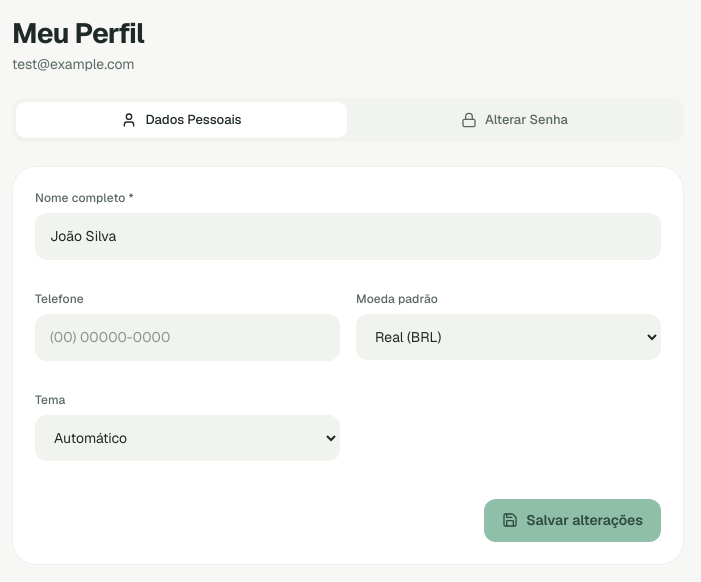
ProfileClient › switches to password tab on click
The width and height of the screenshot is (701, 582).
Click the button "Alterar Senha": (514, 120) [349,102,680,138]
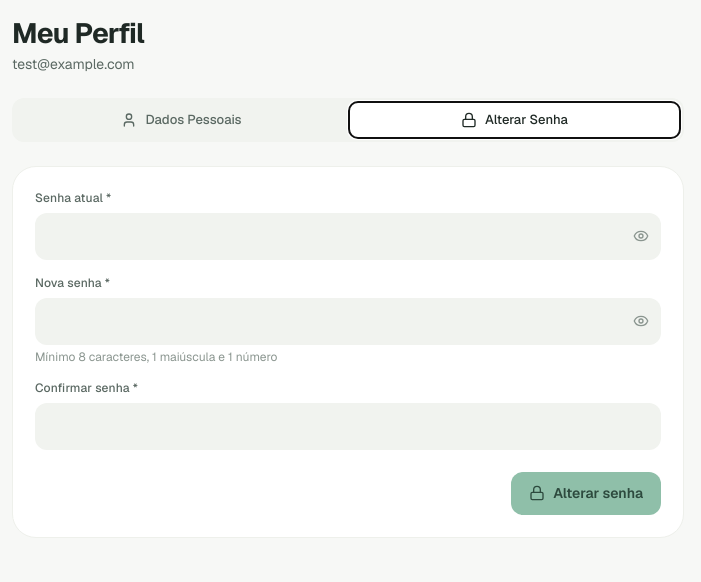
Expected: the text "Senha atual *" is shown, [35,190,111,206]
